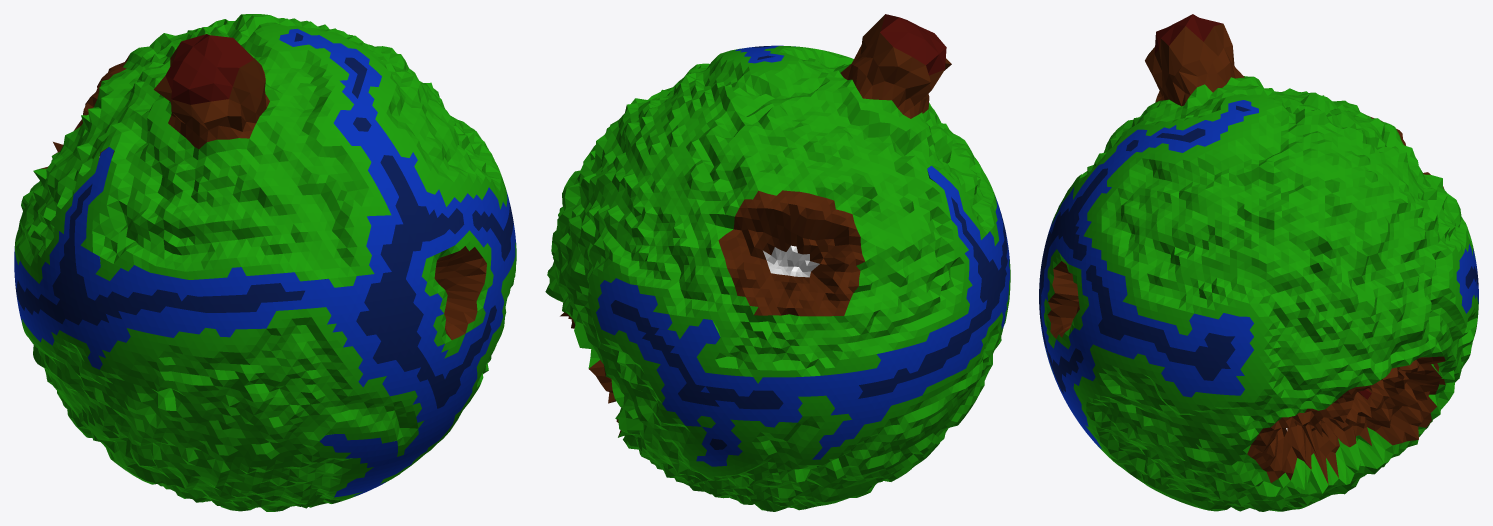
File: Planet3.FBX
3 views of the same model, side by side, from view 1: azimuth 30°, elevation 25°; view 2: azimuth 150°, elevation 25°; view 3: azimuth 270°, elevation 25° (orthographic). The views are drawn at different scales.
Visible parts, largest first — view 1: GeoSphere001, Water; view 2: GeoSphere001, Water; view 3: GeoSphere001, Water.
Part boxes in pixels (x1,y1,x2,y2): GeoSphere001: (14,14,516,511); Water: (14,28,516,497); GeoSphere001: (545,14,1010,511); Water: (596,45,1009,466); GeoSphere001: (1044,14,1478,511); Water: (1039,100,1478,448).
Bounding box in the file's own units: 2000 × 2215 × 2000.
